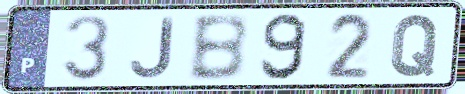2: (325, 11, 376, 81)
3: (61, 14, 112, 84)
9: (259, 11, 309, 82)
B: (185, 12, 251, 83)
J: (128, 16, 177, 81)
Q: (387, 12, 443, 80)
